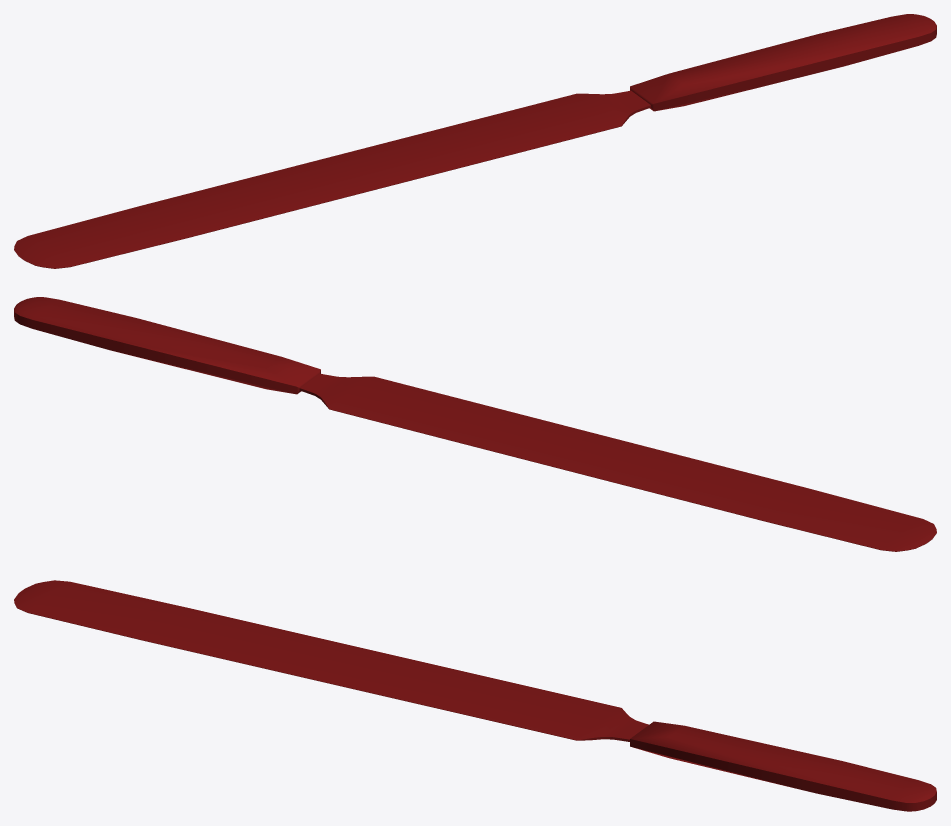
Rendered from SM_Brain_Knife_1.FBX.
3 views of the same model, one above another, from view 1: azimuth 30°, elevation 25°; view 2: azimuth 150°, elevation 25°; view 3: azimuth 330°, elevation 25° (orthographic).
Visible parts, largest first — view 1: Brain_Knife_1; view 2: Brain_Knife_1; view 3: Brain_Knife_1.
Part boxes in pixels (bbox=[...]): Brain_Knife_1: bbox=[14, 14, 936, 268]; Brain_Knife_1: bbox=[14, 297, 936, 551]; Brain_Knife_1: bbox=[14, 580, 936, 811].
Size of the model in its own units: 37.74 by 0.8324 by 3.2.
